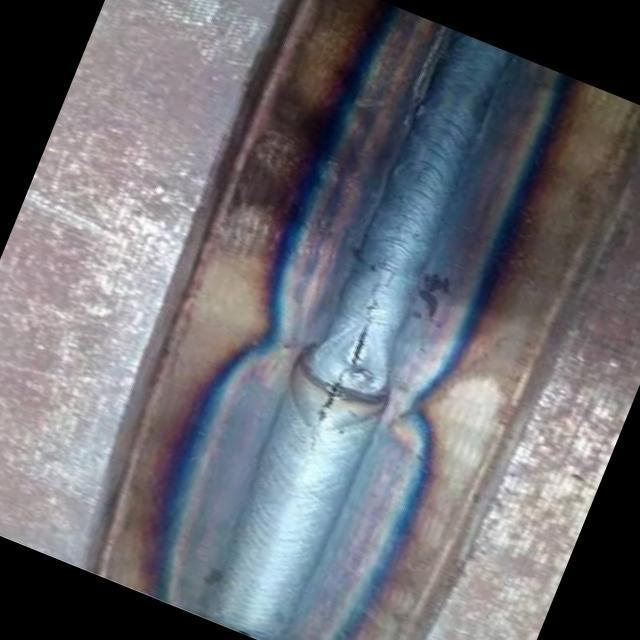defect: (309, 257, 399, 424)
